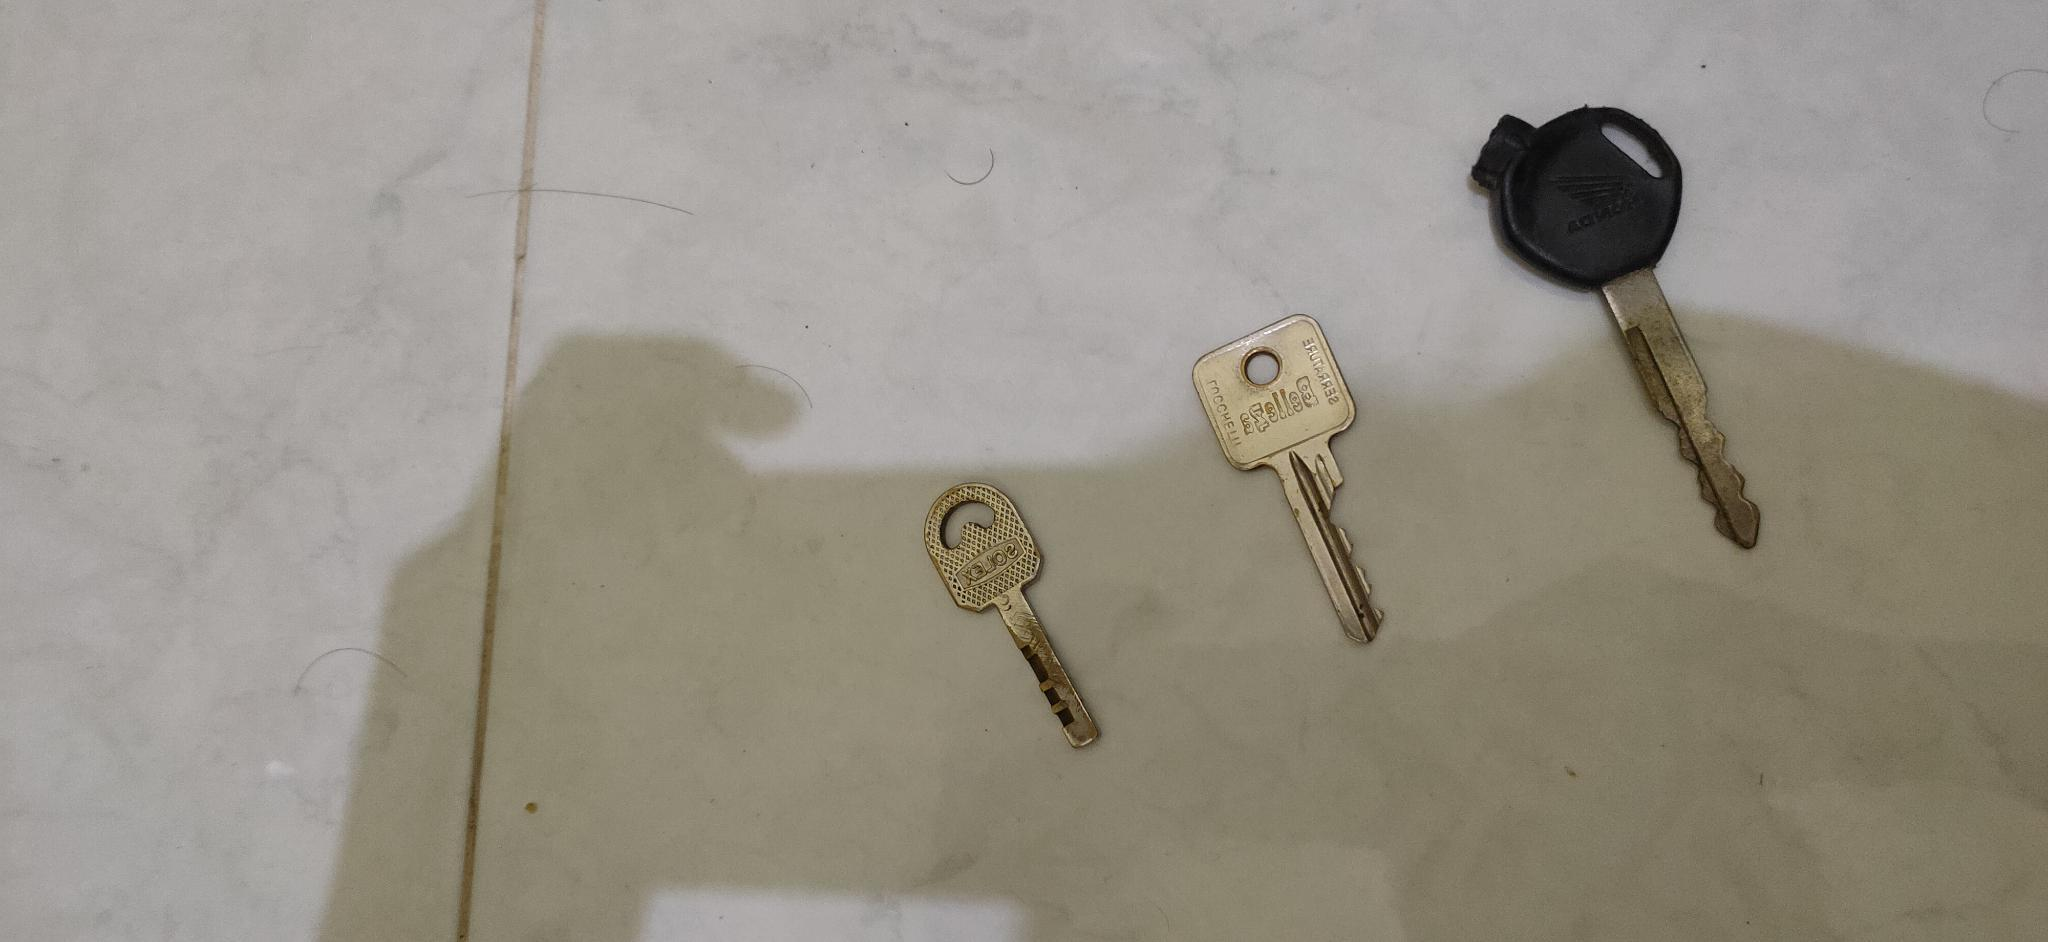keys: (1458, 82, 1795, 551), (1190, 299, 1403, 655), (927, 472, 1108, 753)
